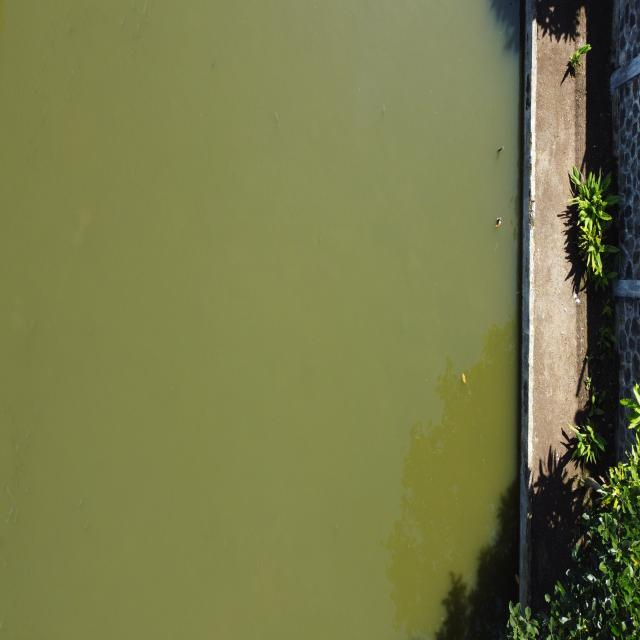Ponds: (1, 1, 548, 640)
